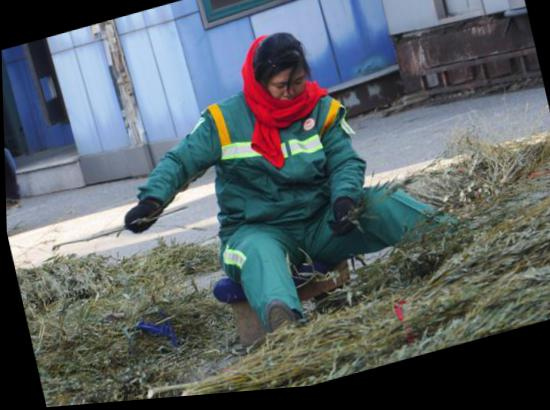WRONG: (266, 69, 315, 120)
